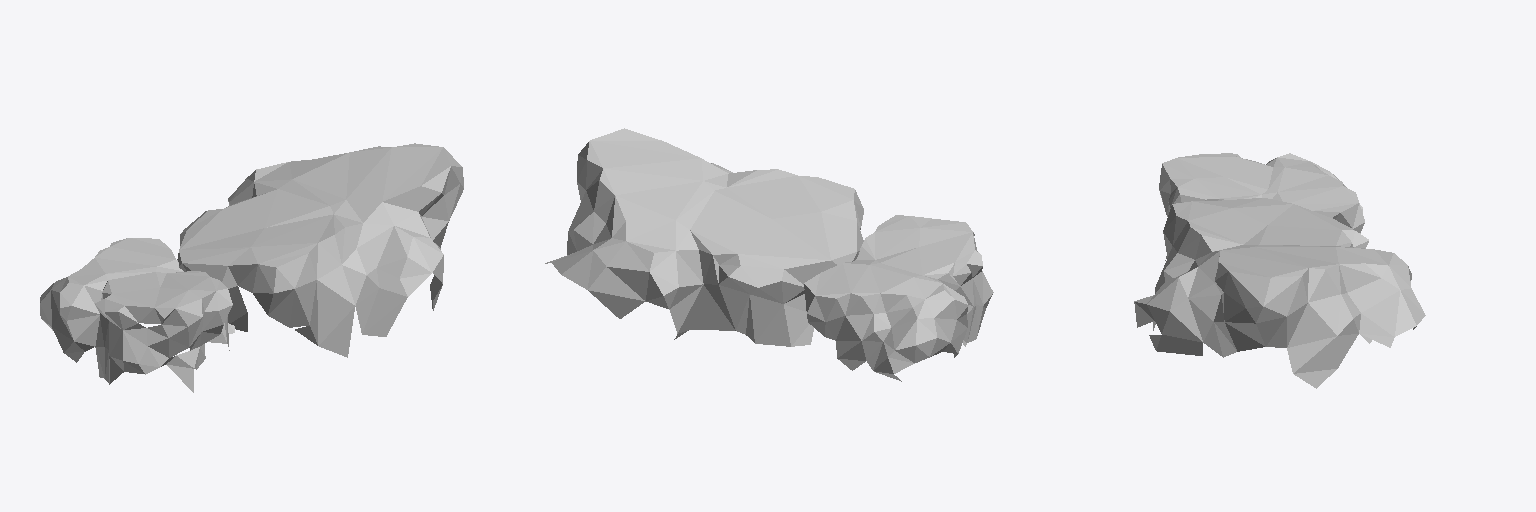
File: Curved 3.obj
3 views of the same model, side by side, from view 1: azimuth 30°, elevation 25°; view 2: azimuth 150°, elevation 25°; view 3: azimuth 270°, elevation 25° (orthographic).
Parts seen in each view (by area): view 1: SM_RockRamp_Curved_03; view 2: SM_RockRamp_Curved_03; view 3: SM_RockRamp_Curved_03.
Boxes of the visible parts, x1=… form: SM_RockRamp_Curved_03: x1=40, y1=143, x2=463, y2=392; SM_RockRamp_Curved_03: x1=545, y1=128, x2=993, y2=381; SM_RockRamp_Curved_03: x1=1134, y1=153, x2=1425, y2=388.
Size of the model in its own units: 3377 by 1099 by 2148.